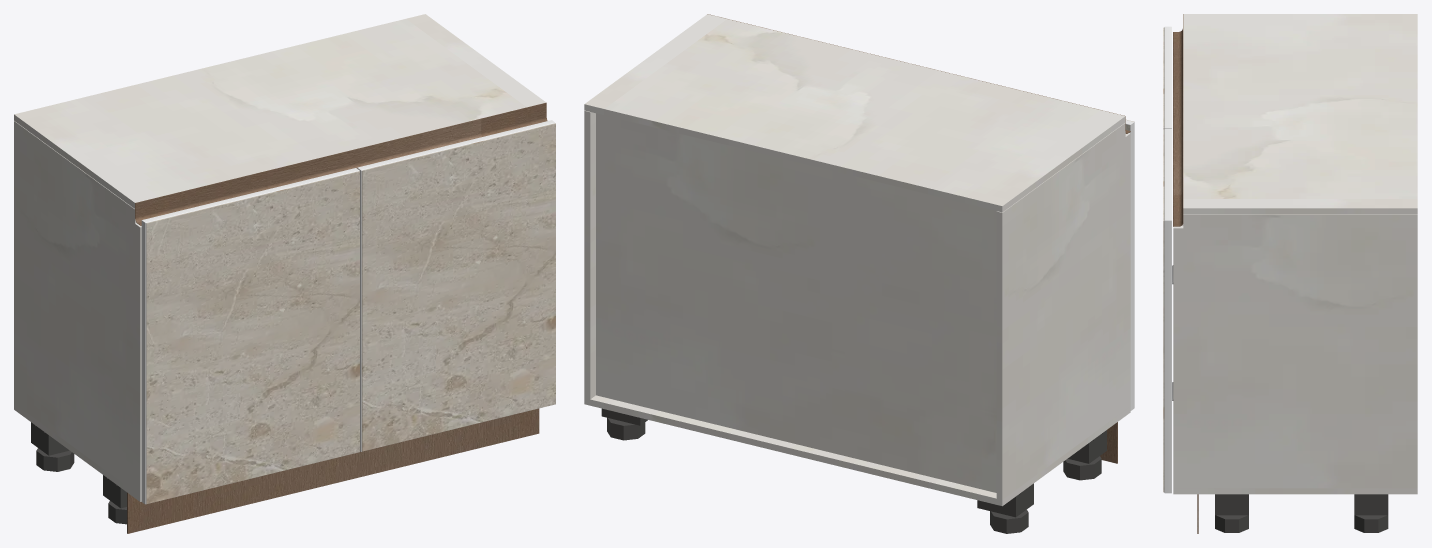
Rendered from S550_BBCLC1HS_RH_CJ (H720xW1050xD560).glb.
3 views of the same model, side by side, from view 1: azimuth 30°, elevation 25°; view 2: azimuth 150°, elevation 25°; view 3: azimuth 270°, elevation 25° (orthographic). The views are drawn at different scales.
Size of what is drawn, in the model's own units: 1.05 by 0.82 by 0.5809.
Materials: 16 (3 with a texture image).
